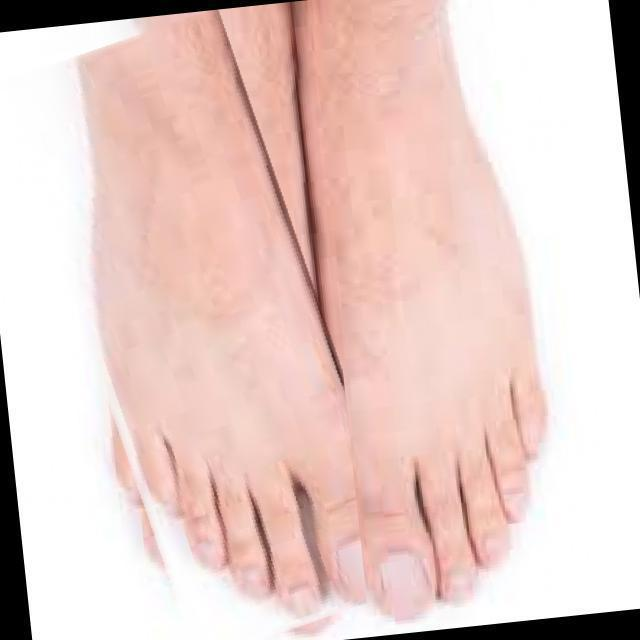No_Shoes: (50, 43, 355, 621), (278, 18, 566, 608)
